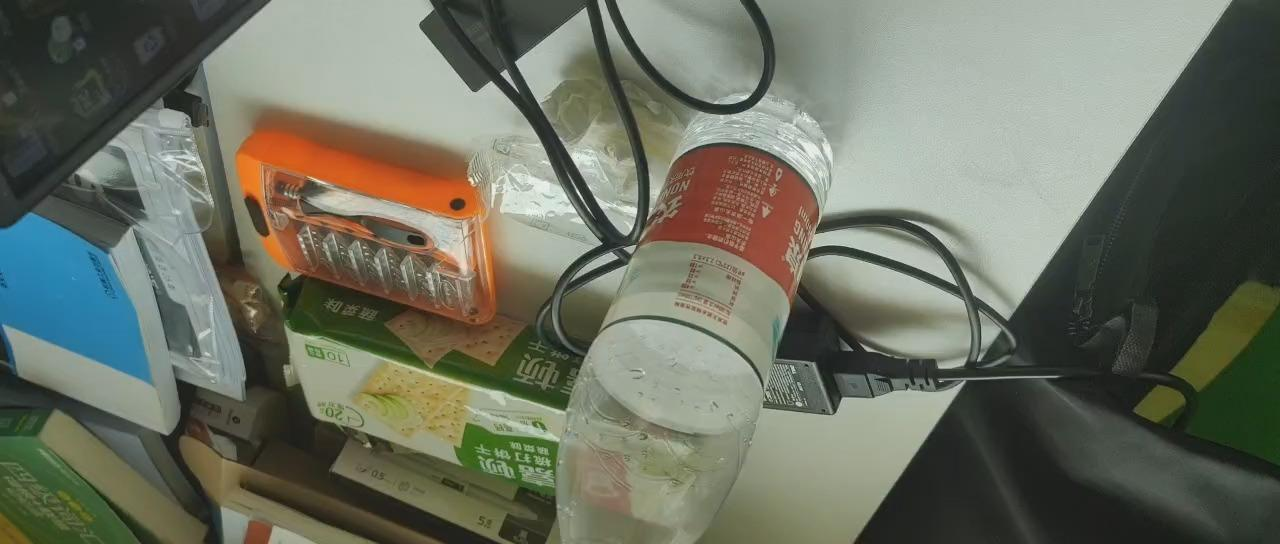BIODEGRADABLE: (546, 83, 839, 544)
